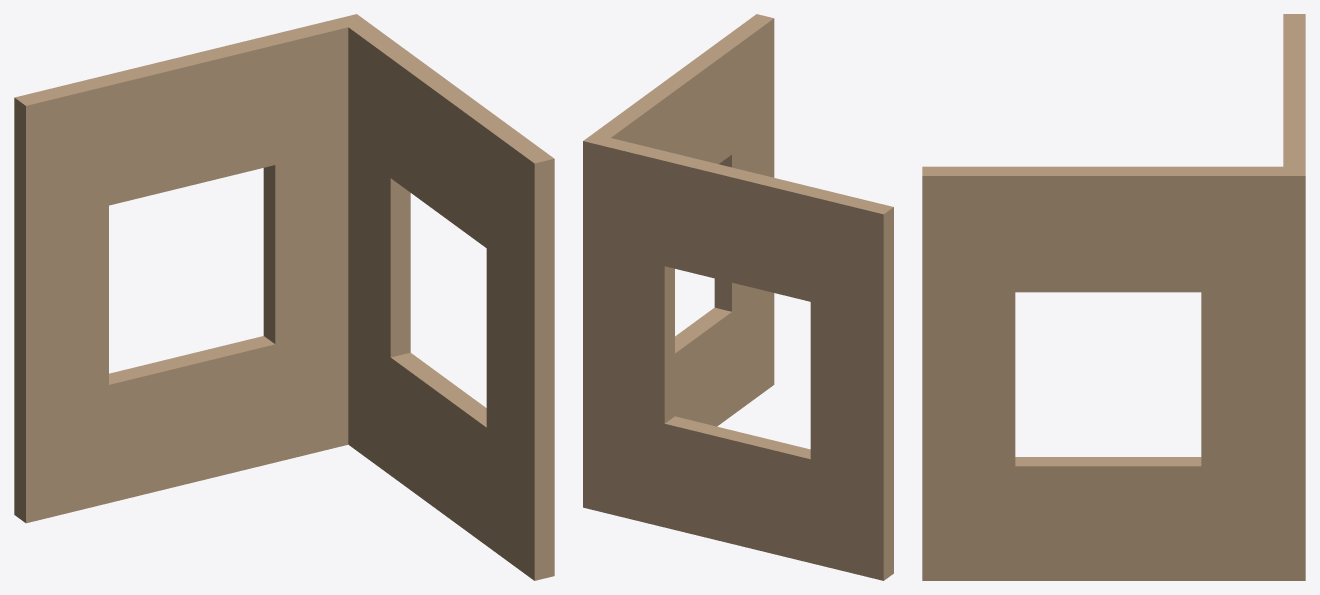
File: Wall2_C1_12.fbx
3 renders of one model, left to right at view 1: azimuth 30°, elevation 25°; view 2: azimuth 150°, elevation 25°; view 3: azimuth 270°, elevation 25°, orthographic. The views are drawn at different scales.
Visible parts, largest first — view 1: Wall2_C1_12; view 2: Wall2_C1_12; view 3: Wall2_C1_12.
Part boxes in pixels (x1,y1,x2,y2): Wall2_C1_12: (14,14,554,580); Wall2_C1_12: (583,14,893,580); Wall2_C1_12: (922,14,1305,580).
Bounding box in the file's own units: 258 × 300 × 258.
